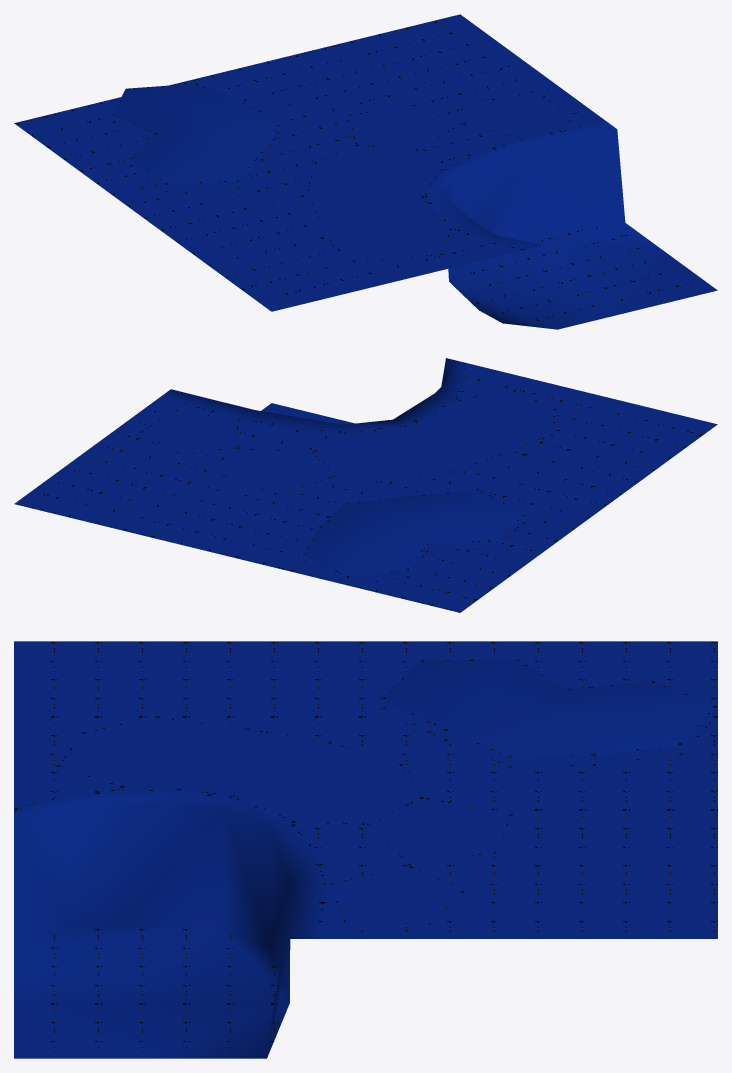
Rendered from GRD_S_C4_1.fbx.
3 renders of one model, top to bottom at view 1: azimuth 30°, elevation 25°; view 2: azimuth 150°, elevation 25°; view 3: azimuth 270°, elevation 25°, orthographic. The views are drawn at different scales.
Visible parts, largest first — view 1: material_00022000, material_C0042000, material_00032000, material_C0012000, material_C0052000; view 2: material_00022000, material_C0042000, material_C0012000, material_00032000, material_C0052000; view 3: material_00022000, material_00032000, material_C0042000, material_C0012000, material_C0052000.
Part boxes in pixels (x1=…): material_00022000: x1=14, y1=14, x2=717, y2=329; material_C0042000: x1=306, y1=96, x2=572, y2=260; material_00032000: x1=423, y1=120, x2=625, y2=281; material_C0012000: x1=112, y1=83, x2=279, y2=185; material_C0052000: x1=112, y1=117, x2=279, y2=192; material_00022000: x1=14, y1=363, x2=717, y2=612; material_C0042000: x1=140, y1=389, x2=556, y2=494; material_C0012000: x1=303, y1=490, x2=525, y2=578; material_00032000: x1=159, y1=358, x2=468, y2=432; material_C0052000: x1=303, y1=519, x2=525, y2=585; material_00022000: x1=14, y1=641, x2=717, y2=1058; material_00032000: x1=14, y1=788, x2=328, y2=1055; material_C0042000: x1=56, y1=716, x2=512, y2=924; material_C0012000: x1=381, y1=659, x2=717, y2=757; material_C0052000: x1=381, y1=703, x2=717, y2=767.
Size of the model in its own units: 12800 by 2800 by 12800.
